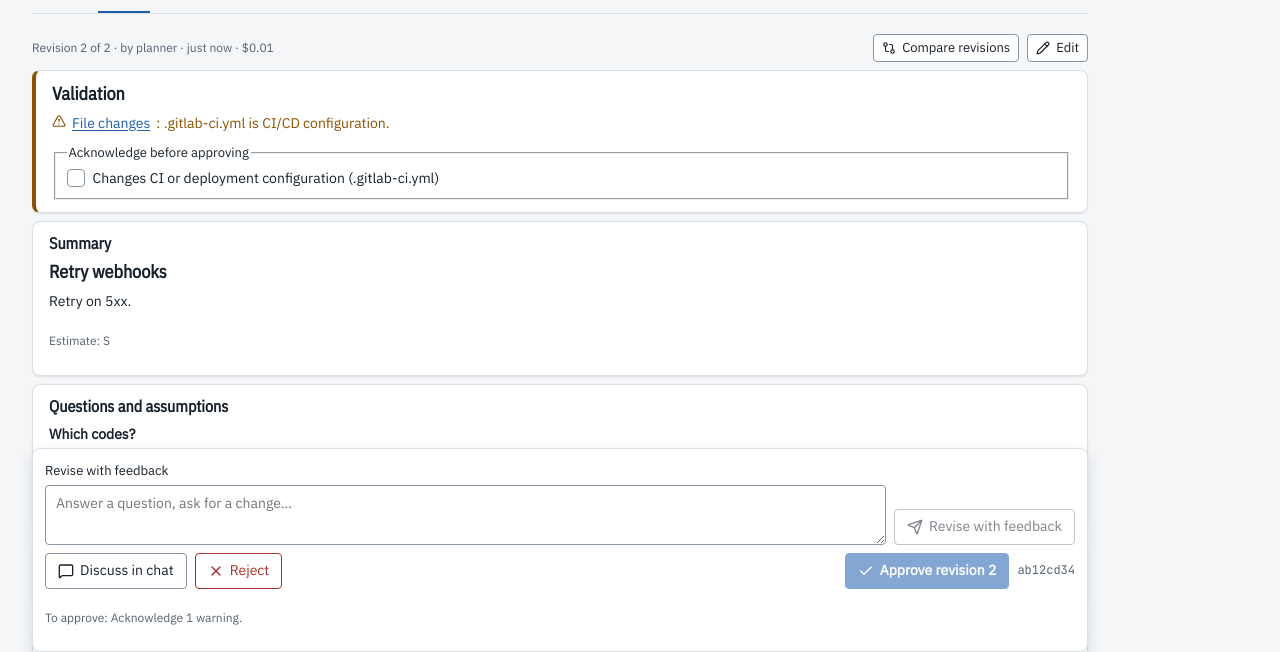
Plan tab › edits a copy and saves it as a new revision
Click the button "Edit". click: x=1058, y=48
box: x1=1027 y1=34 x2=1088 y2=62
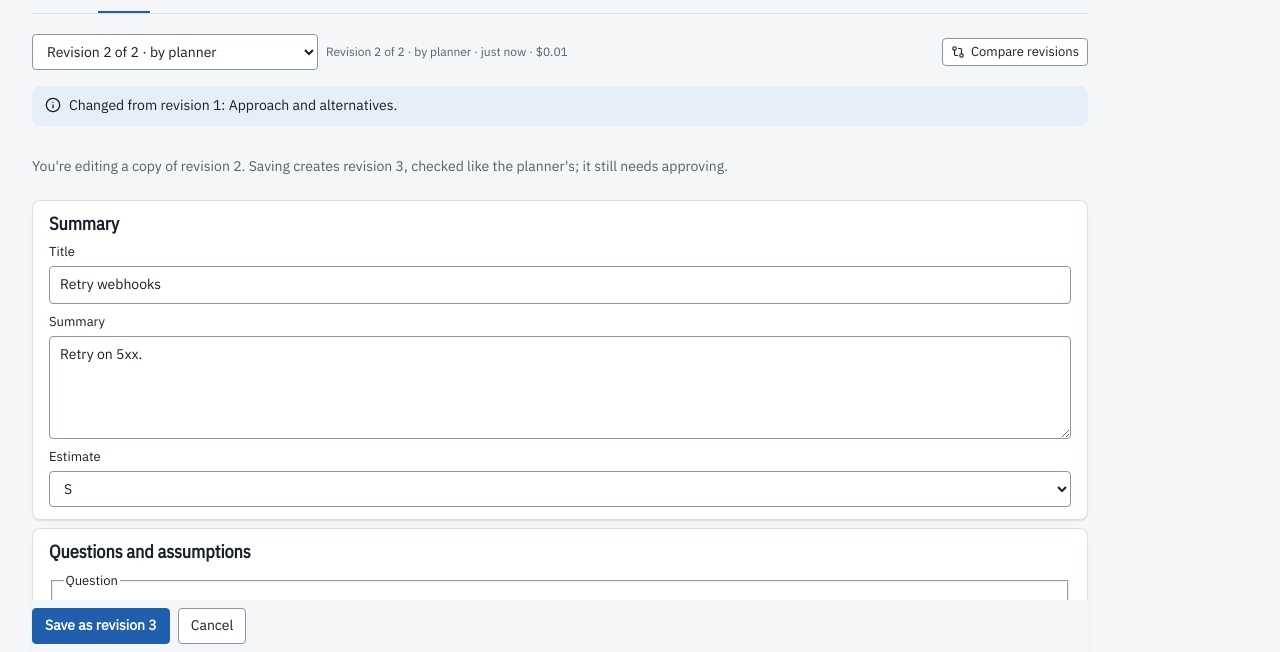
Replace the text in the field labelled "Title" with "Retry webhooks, narrower". click: x=560, y=285
box: x1=49 y1=266 x2=1071 y2=304
(page scrolled)
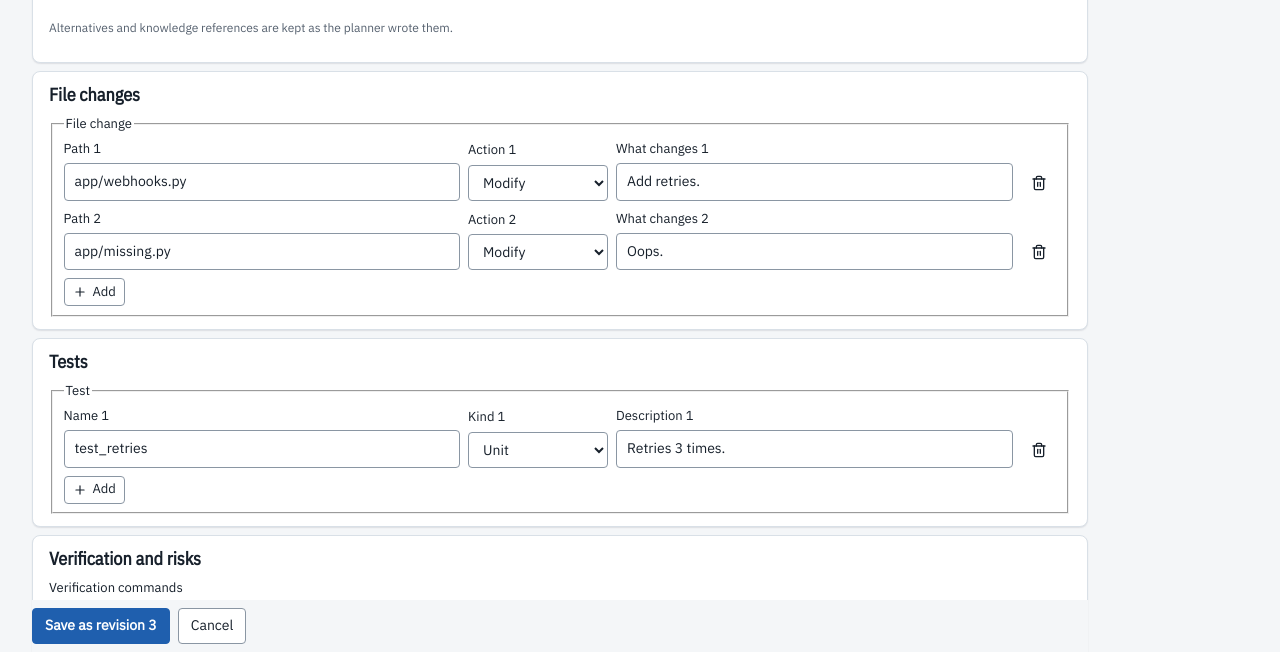
Click the button named "Remove file change 2". click: x=1038, y=252
box: x1=1020 y1=234 x2=1056 y2=270
(page scrolled)
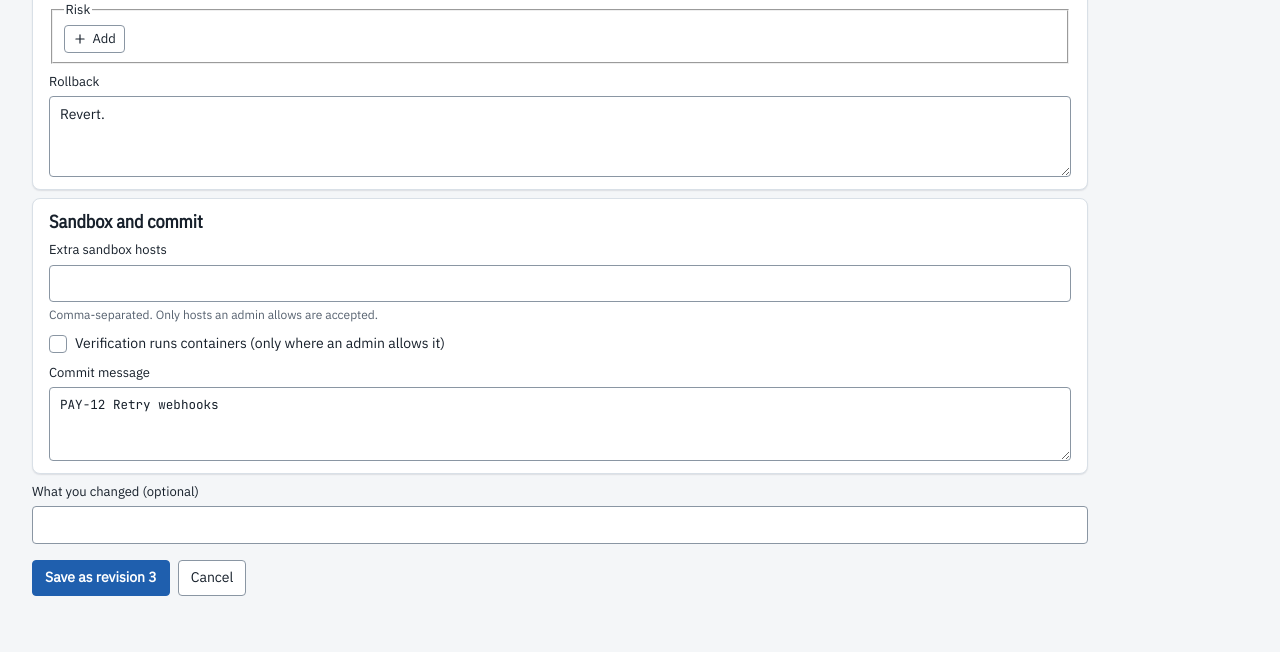
Type "Narrower" into the field labelled "What you changed (optional)". click: x=560, y=525
box: x1=32 y1=506 x2=1088 y2=544
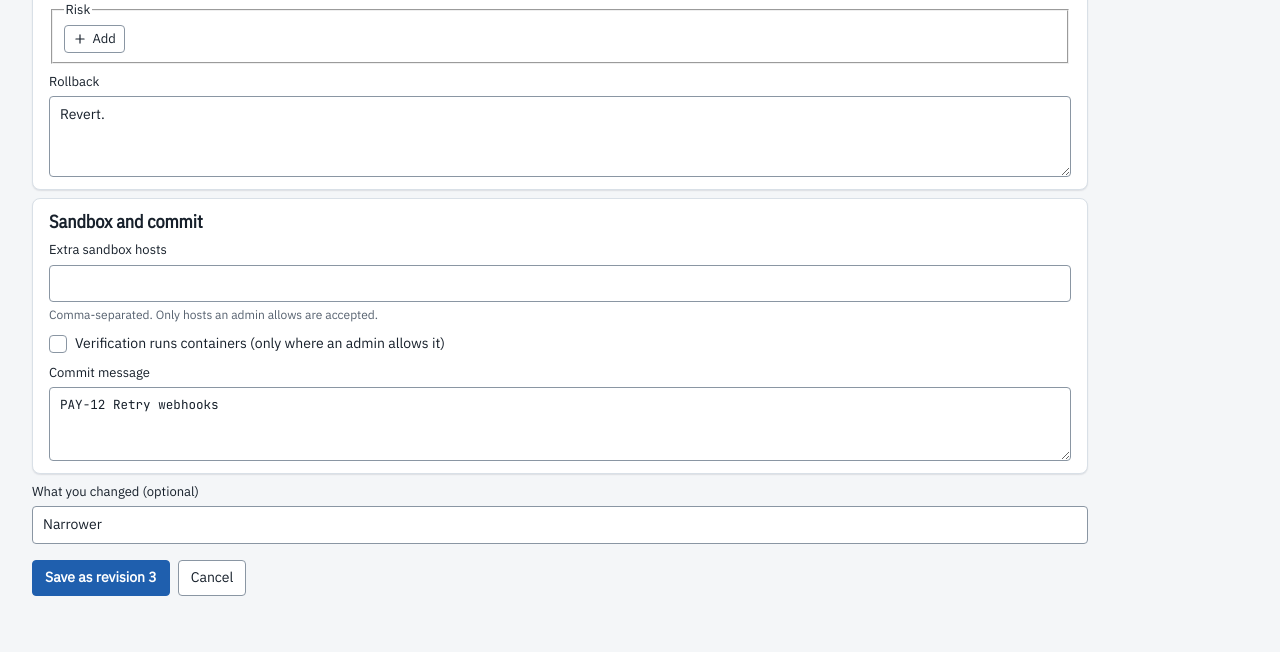
Click the button "Save as revision 3". click: x=101, y=578
box: x1=32 y1=560 x2=170 y2=596
(page scrolled)
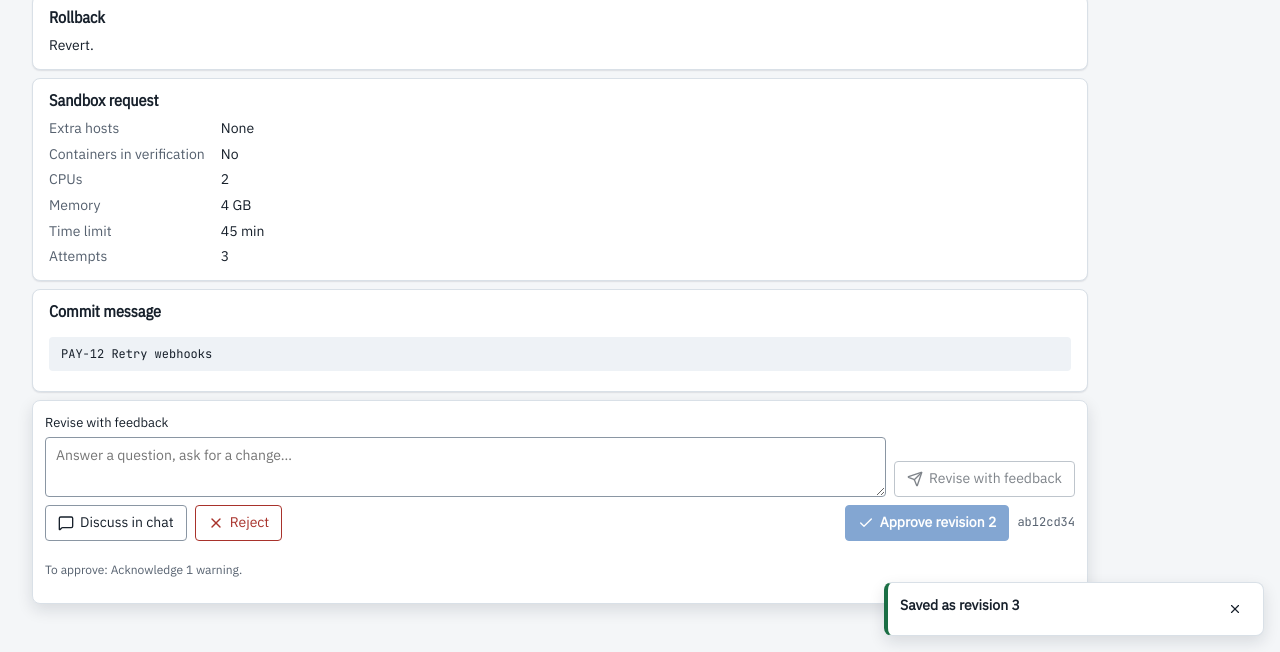
Now the text "Saved as revision 3" is shown, box x1=900 y1=596 x2=1020 y2=614
